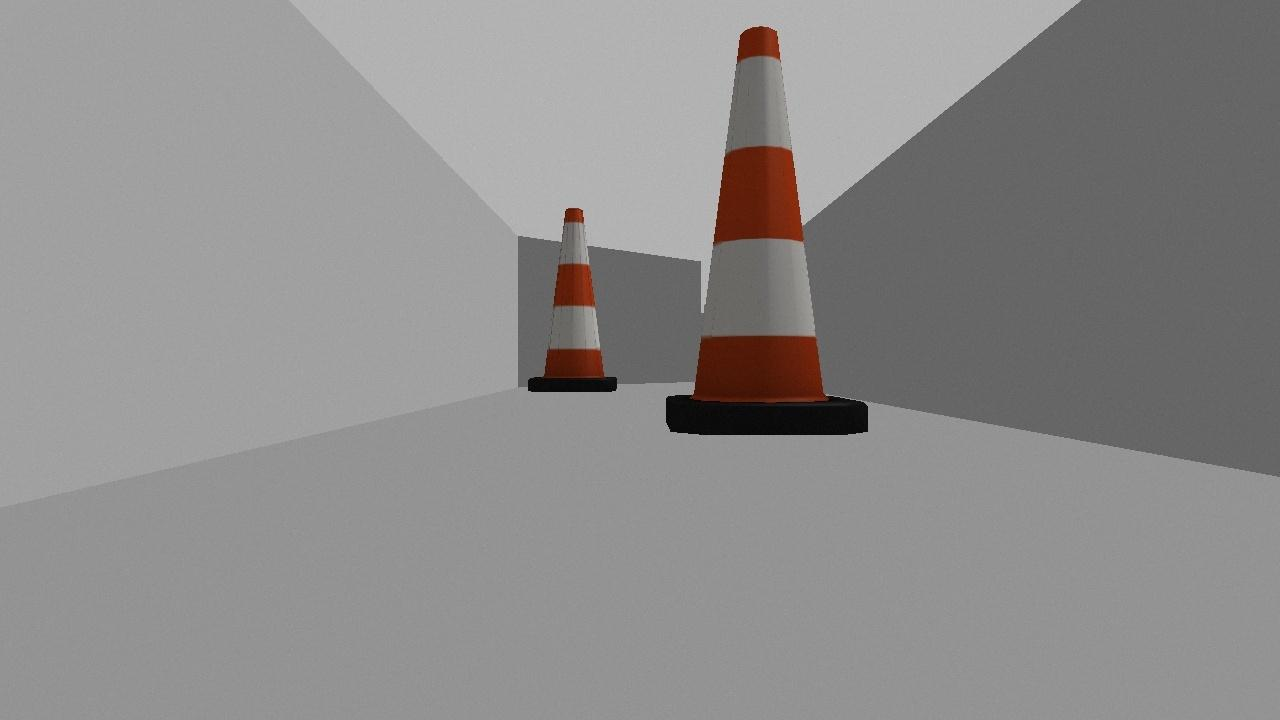cone_barrel: (649, 12, 879, 439), (522, 203, 623, 397)
